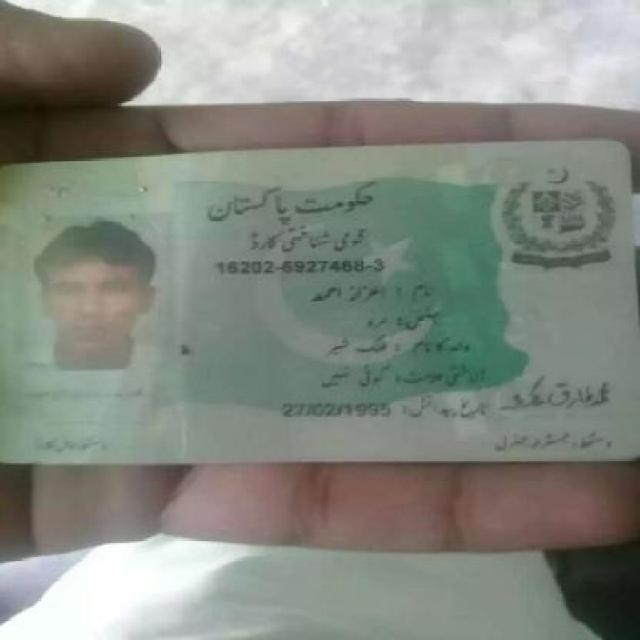Front: (14, 135, 634, 477)
